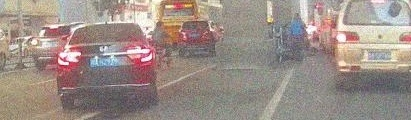L_light: (57, 51, 82, 66)
R_light: (127, 49, 153, 62)
T_light: (99, 25, 113, 28)
day-left: (56, 22, 154, 108)
